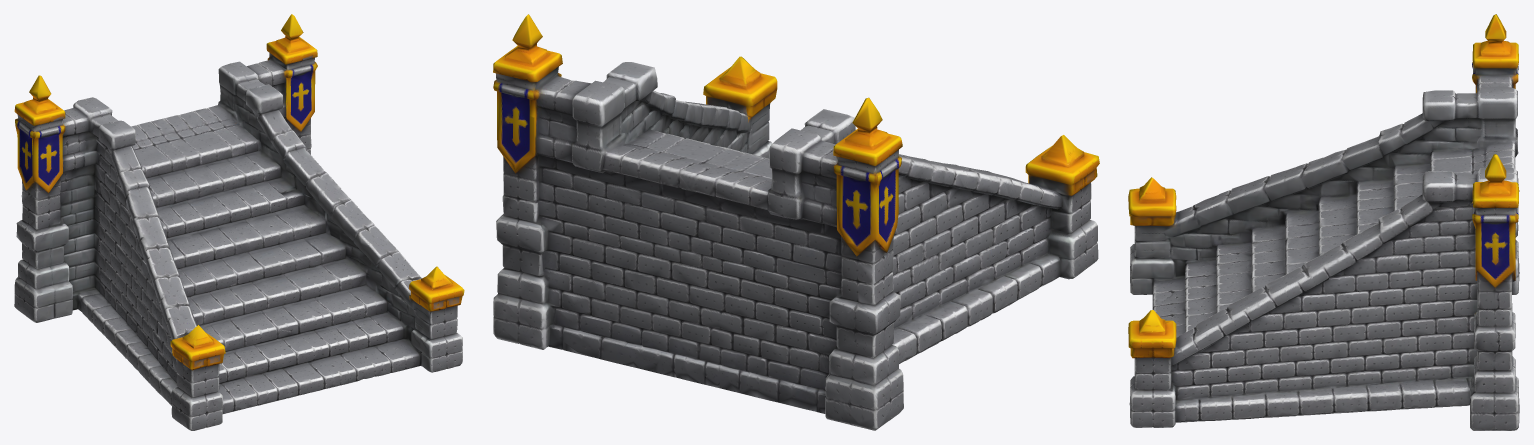
File: Escada Grande 1.glb
The picture shows the model from 3 angles, left to right: view 1: azimuth 30°, elevation 25°; view 2: azimuth 150°, elevation 25°; view 3: azimuth 270°, elevation 25°; orthographic projection. The views are drawn at different scales.
Visible parts, largest first — view 1: tripo_node_e4369af6-efff-4701-a07a-c3fe0c680674; view 2: tripo_node_e4369af6-efff-4701-a07a-c3fe0c680674; view 3: tripo_node_e4369af6-efff-4701-a07a-c3fe0c680674.
Part boxes in pixels (left/top/right/bottom): tripo_node_e4369af6-efff-4701-a07a-c3fe0c680674: left=14, top=14, right=464, bottom=430; tripo_node_e4369af6-efff-4701-a07a-c3fe0c680674: left=493, top=14, right=1099, bottom=430; tripo_node_e4369af6-efff-4701-a07a-c3fe0c680674: left=1128, top=14, right=1519, bottom=430.
Bounding box in the file's own units: 0.9592 × 0.7584 × 1.
Materials: 1 (1 with a texture image).
